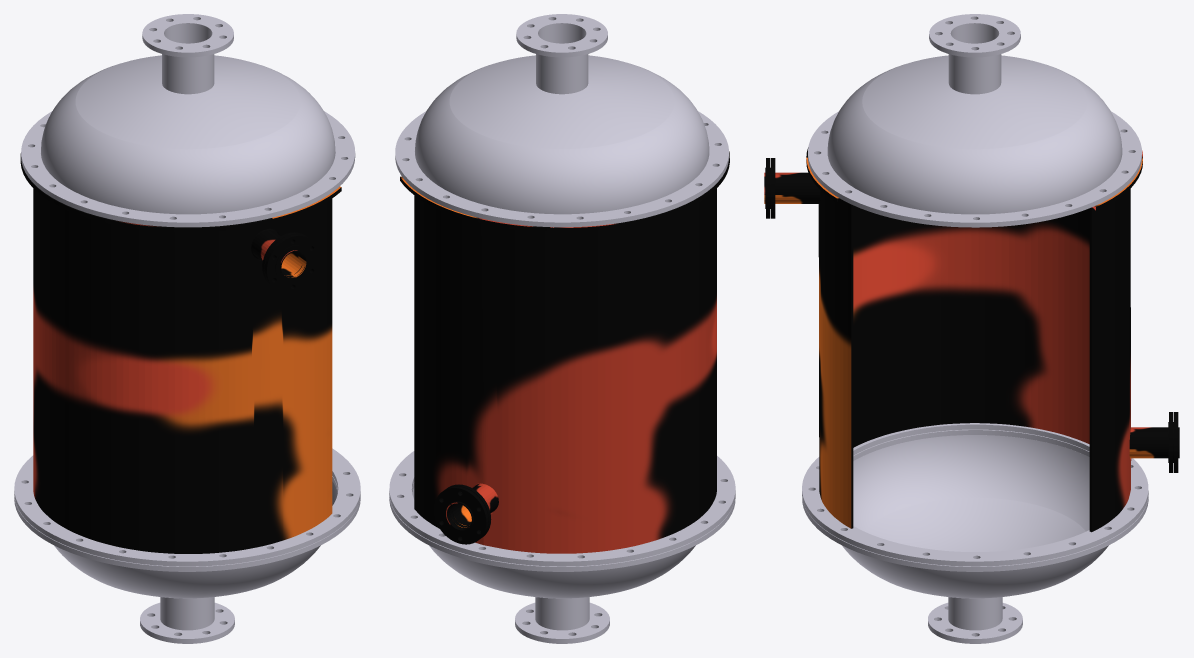
File: newCapsul.fbx
3 views of the same model, side by side, from view 1: azimuth 30°, elevation 25°; view 2: azimuth 150°, elevation 25°; view 3: azimuth 270°, elevation 25° (orthographic).
Visible parts, largest first — view 1: Пятый блок\Адсорбер 2\Крышка адс.005; view 2: Пятый блок\Адсорбер 2\Крышка адс.005; view 3: Пятый блок\Адсорбер 2\Крышка адс.005.
Boxes of the visible parts, box(x1,y1,x2,y2) form: Пятый блок\Адсорбер 2\Крышка адс.005: box(14, 14, 360, 643); Пятый блок\Адсорбер 2\Крышка адс.005: box(389, 14, 735, 643); Пятый блок\Адсорбер 2\Крышка адс.005: box(764, 14, 1179, 643).
Size of the model in its own units: 40978 by 77074 by 49116.
